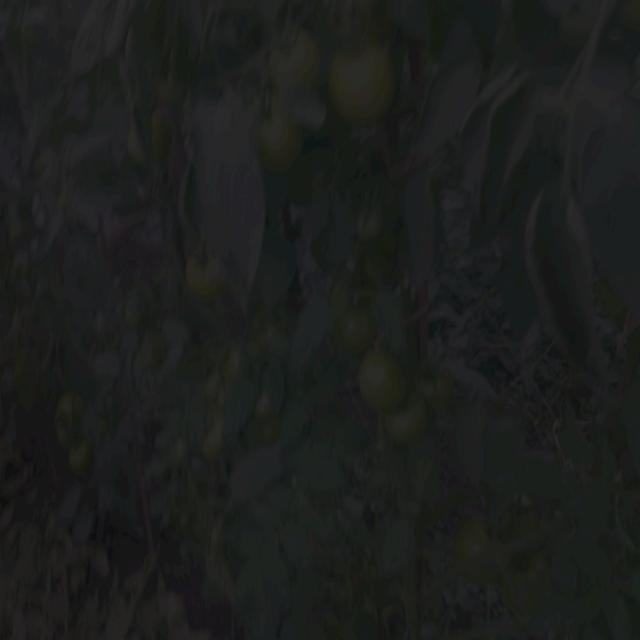tomato: (334, 46, 413, 125), (358, 347, 412, 418), (272, 28, 331, 82), (256, 104, 308, 164), (386, 389, 433, 446), (184, 243, 225, 303), (334, 306, 381, 351), (429, 364, 461, 410), (52, 394, 84, 437), (454, 518, 487, 556), (503, 494, 529, 530), (201, 419, 224, 459), (206, 376, 231, 411), (150, 117, 170, 158), (257, 414, 282, 446), (68, 444, 91, 478), (360, 205, 389, 231), (256, 388, 278, 422), (225, 347, 244, 378), (32, 141, 50, 159), (129, 139, 141, 162)
